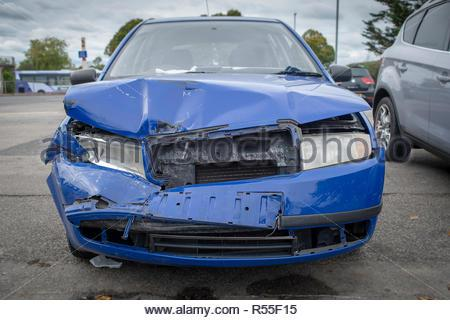bonnet-dent: (61, 81, 368, 139)
front-bumper-dent: (39, 164, 373, 251)
